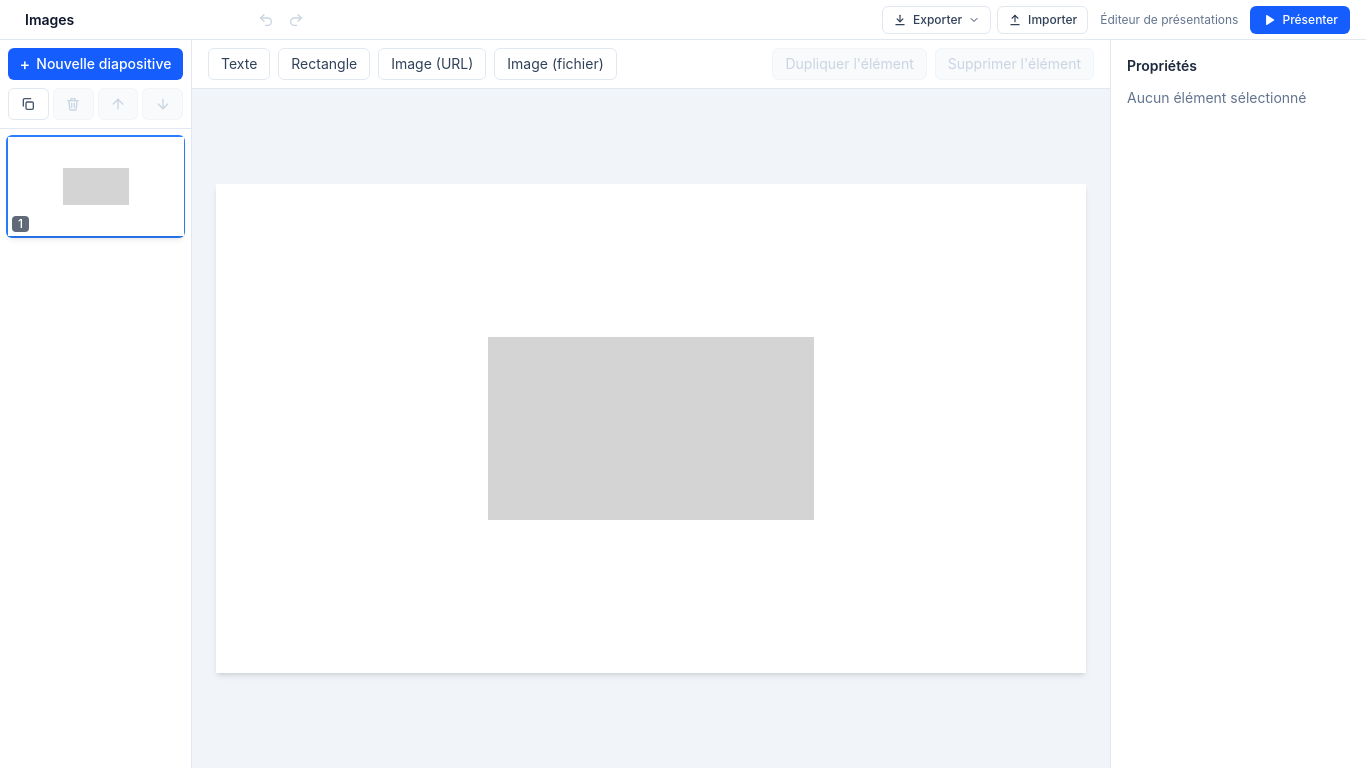
Test: EditorLayout : export PDF › un export = un seul appel à print, même après un double clic rapide sur PDF
Click the button "Exporter": x=937, y=20 [882,6,991,34]
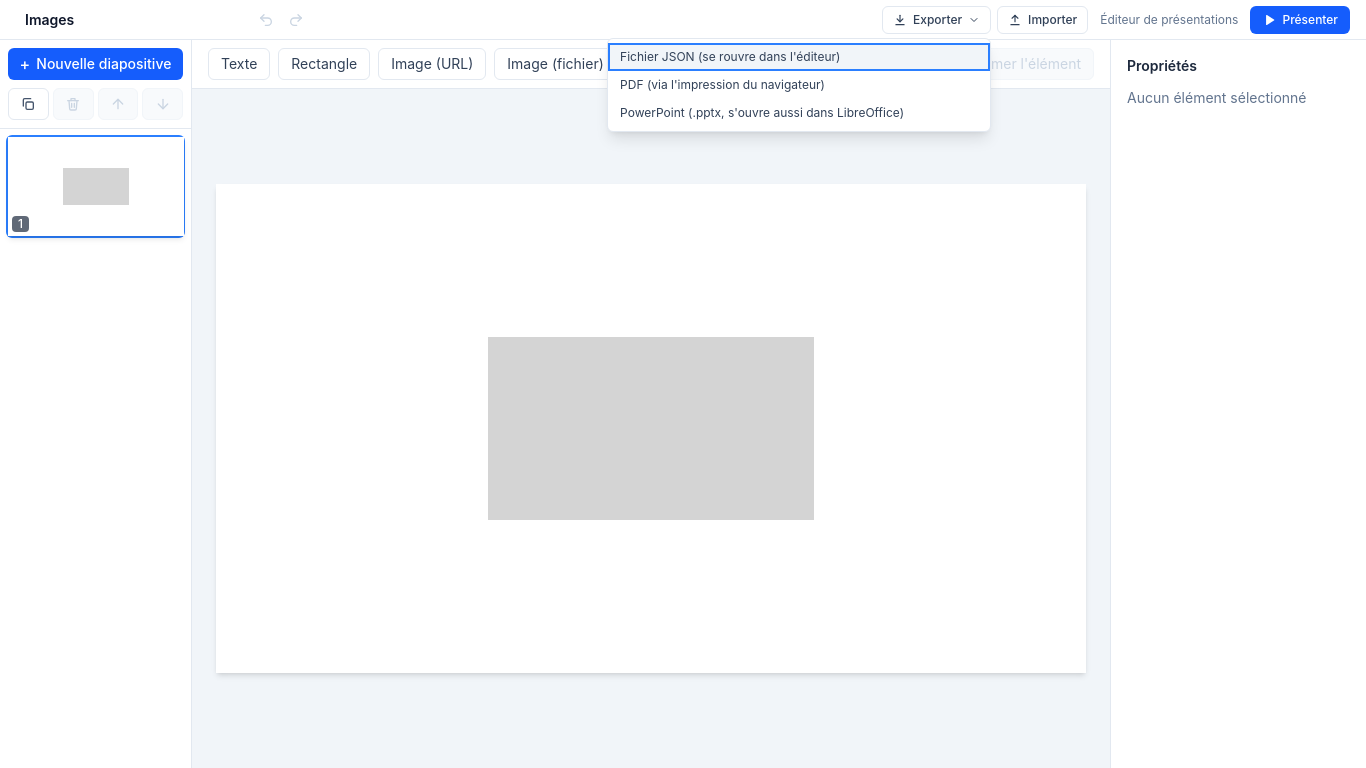
Click the menu item "PDF (via l'impression du navigateur)": x=799, y=84 [608,70,990,98]
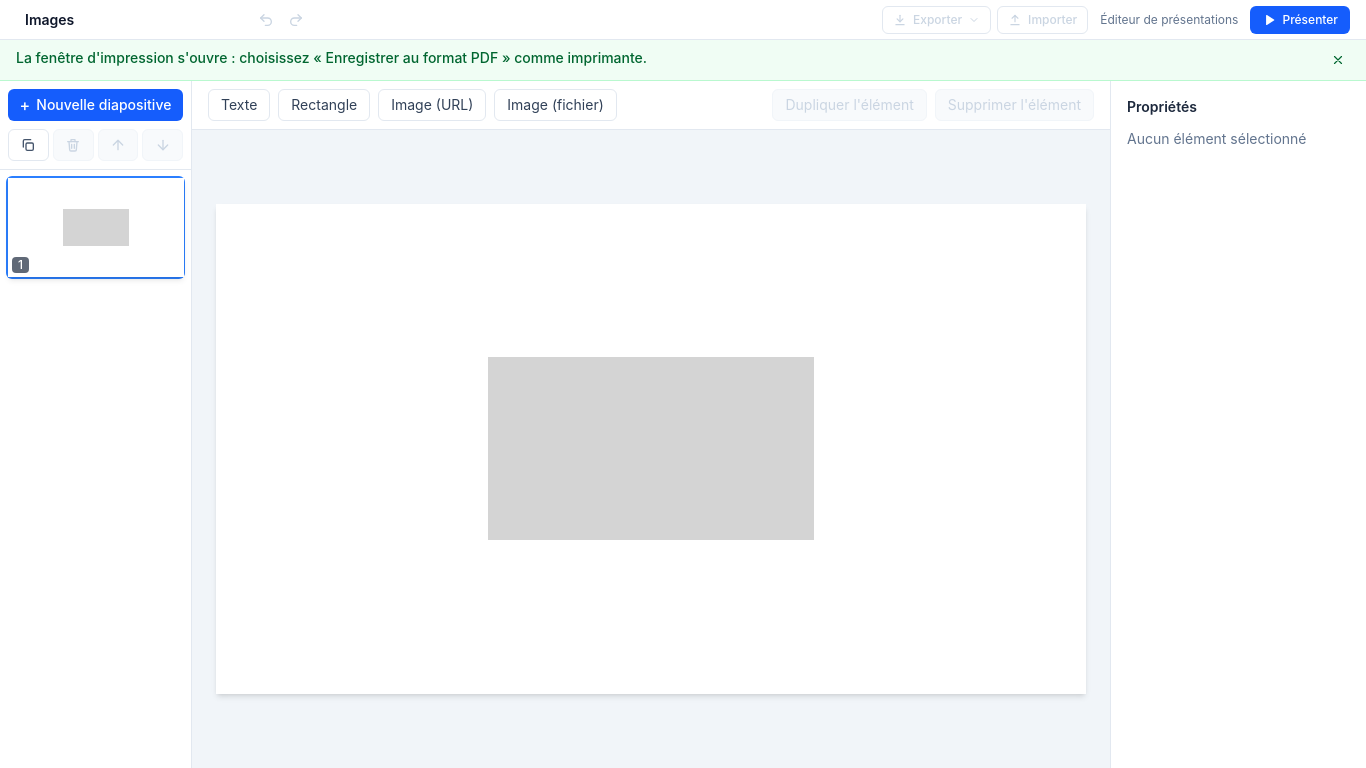
Now the button "Exporter" is disabled, box [882,6,991,34]
